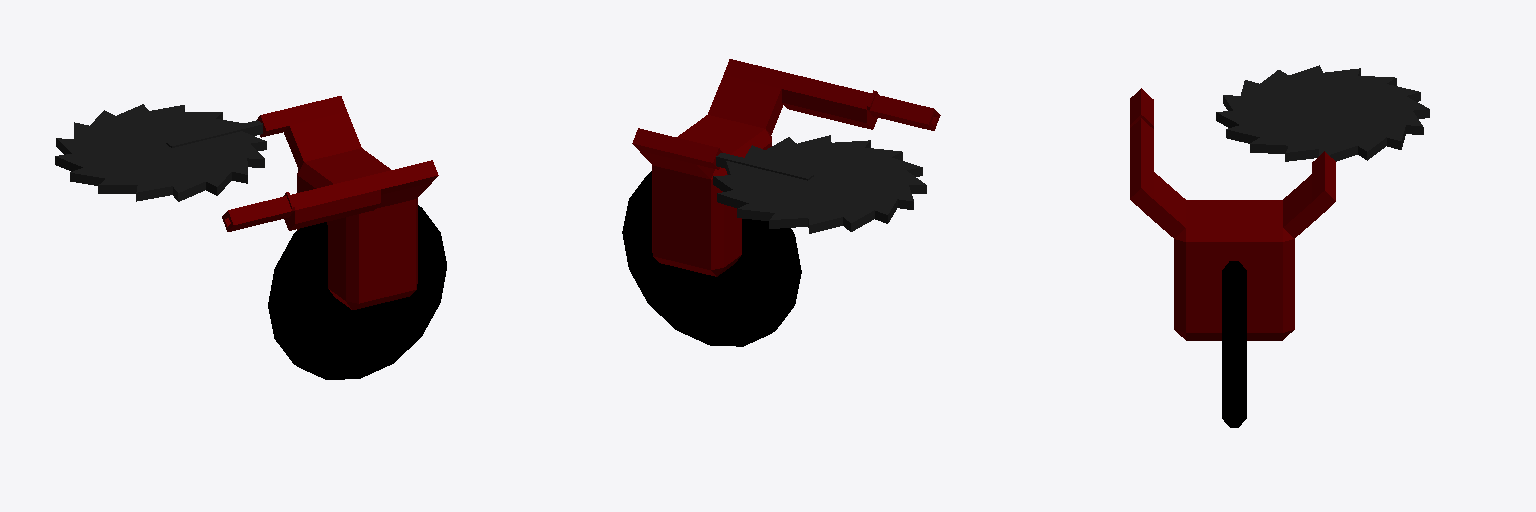
File: Robot.obj
The picture shows the model from 3 angles: view 1: azimuth 30°, elevation 25°; view 2: azimuth 150°, elevation 25°; view 3: azimuth 270°, elevation 25°; orthographic projection.
Parts seen in each view (by area): view 1: Cube.002, Cylinder.011, Cylinder.012; view 2: Cube.002, Cylinder.012, Cylinder.011; view 3: Cube.002, Cylinder.012, Cylinder.011.
Part boxes in pixels (left/top/right/bottom): Cube.002: left=222, top=96, right=438, bottom=309; Cylinder.011: left=268, top=205, right=446, bottom=379; Cylinder.012: left=55, top=104, right=266, bottom=201; Cube.002: left=632, top=59, right=940, bottom=276; Cylinder.012: left=713, top=135, right=926, bottom=233; Cylinder.011: left=622, top=171, right=801, bottom=346; Cube.002: left=1130, top=88, right=1335, bottom=340; Cylinder.012: left=1216, top=65, right=1429, bottom=161; Cylinder.011: left=1222, top=261, right=1246, bottom=427.
Bounding box in the file's own units: 11.63 × 8.28 × 9.11.